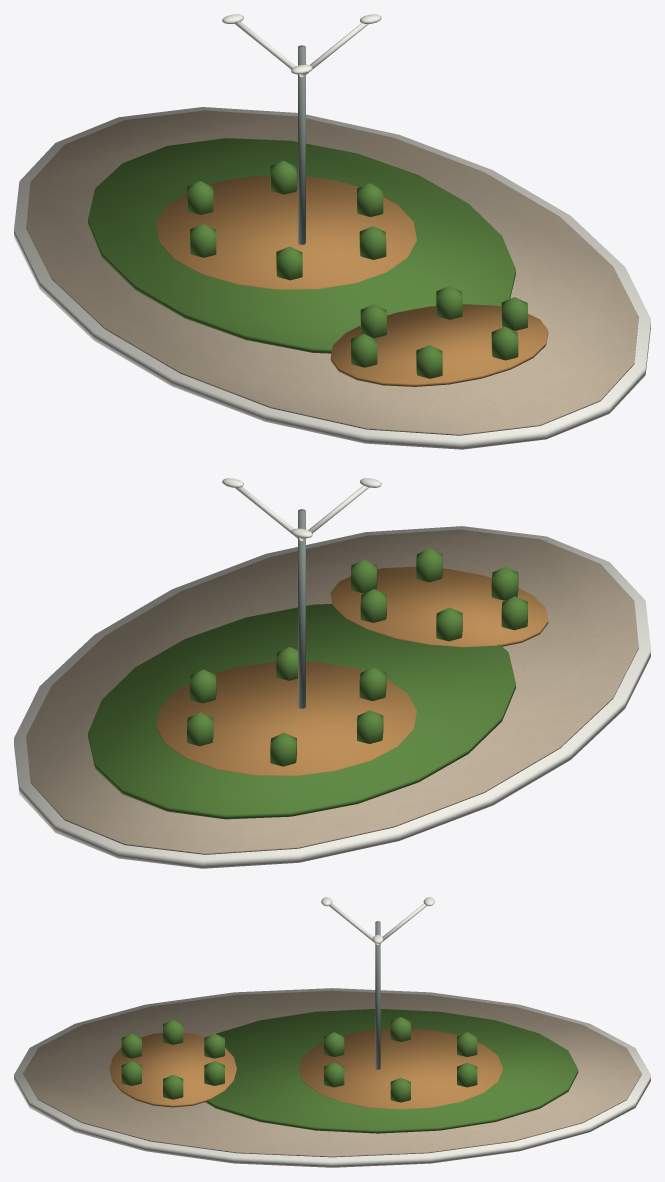
Rendered from long-xuyen-nguyen-hue-island-lod.glb.
The picture shows the model from 3 angles, top to bottom: view 1: azimuth 30°, elevation 25°; view 2: azimuth 150°, elevation 25°; view 3: azimuth 270°, elevation 25°; orthographic projection. The views are drawn at different scales.
Visible parts, largest first — view 1: Nguyen_Hue_island_LOD_paving, Nguyen_Hue_island_LOD_green, Nguyen_Hue_island_LOD_flower, Nguyen_Hue_island_LOD_white, Nguyen_Hue_island_LOD_metal; view 2: Nguyen_Hue_island_LOD_paving, Nguyen_Hue_island_LOD_green, Nguyen_Hue_island_LOD_flower, Nguyen_Hue_island_LOD_white, Nguyen_Hue_island_LOD_metal; view 3: Nguyen_Hue_island_LOD_paving, Nguyen_Hue_island_LOD_green, Nguyen_Hue_island_LOD_flower, Nguyen_Hue_island_LOD_white, Nguyen_Hue_island_LOD_metal.
Part boxes in pixels (<box>): Nguyen_Hue_island_LOD_paving: <box>26,110,638,435</box>; Nguyen_Hue_island_LOD_green: <box>88,138,527,378</box>; Nguyen_Hue_island_LOD_flower: <box>156,175,548,386</box>; Nguyen_Hue_island_LOD_white: <box>14,14,650,449</box>; Nguyen_Hue_island_LOD_metal: <box>298,45,305,244</box>; Nguyen_Hue_island_LOD_paving: <box>26,529,638,854</box>; Nguyen_Hue_island_LOD_green: <box>88,548,527,819</box>; Nguyen_Hue_island_LOD_flower: <box>156,566,548,775</box>; Nguyen_Hue_island_LOD_white: <box>14,478,650,868</box>; Nguyen_Hue_island_LOD_metal: <box>298,509,305,708</box>; Nguyen_Hue_island_LOD_paving: <box>23,990,641,1157</box>; Nguyen_Hue_island_LOD_green: <box>121,1009,578,1133</box>; Nguyen_Hue_island_LOD_flower: <box>109,1028,502,1109</box>; Nguyen_Hue_island_LOD_white: <box>14,897,650,1167</box>; Nguyen_Hue_island_LOD_metal: <box>375,921,380,1069</box>.
Bounding box in the file's own units: 18 × 8.22 × 28.
Materials: 5 (1 with a texture image).
